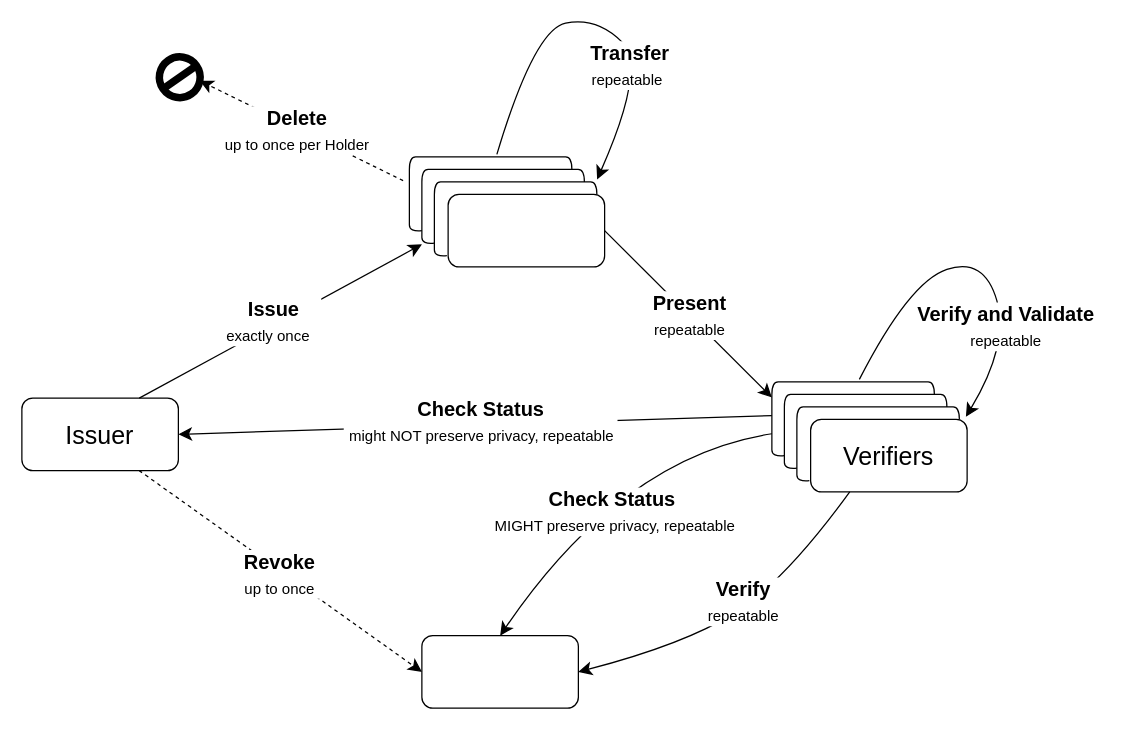
Image size: 1121x730. Some labels were removed from this diagram. Here are the shapes that lost their labels. From the top down, the box of each, then its label:
(447, 193, 605, 267): Holders
(421, 634, 578, 708): Registry
